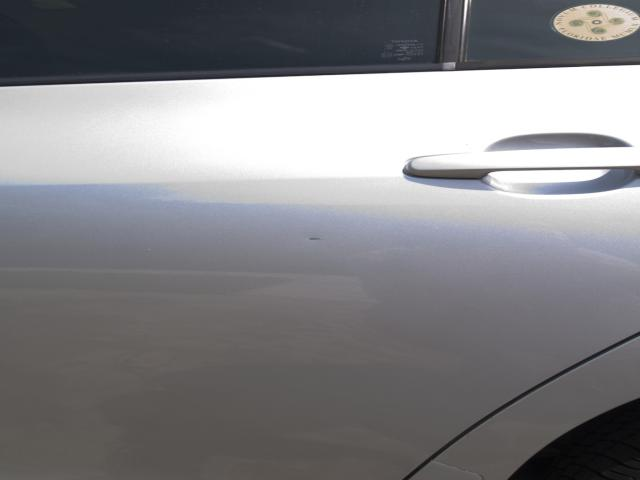Door-handle: (398, 148, 637, 180)
